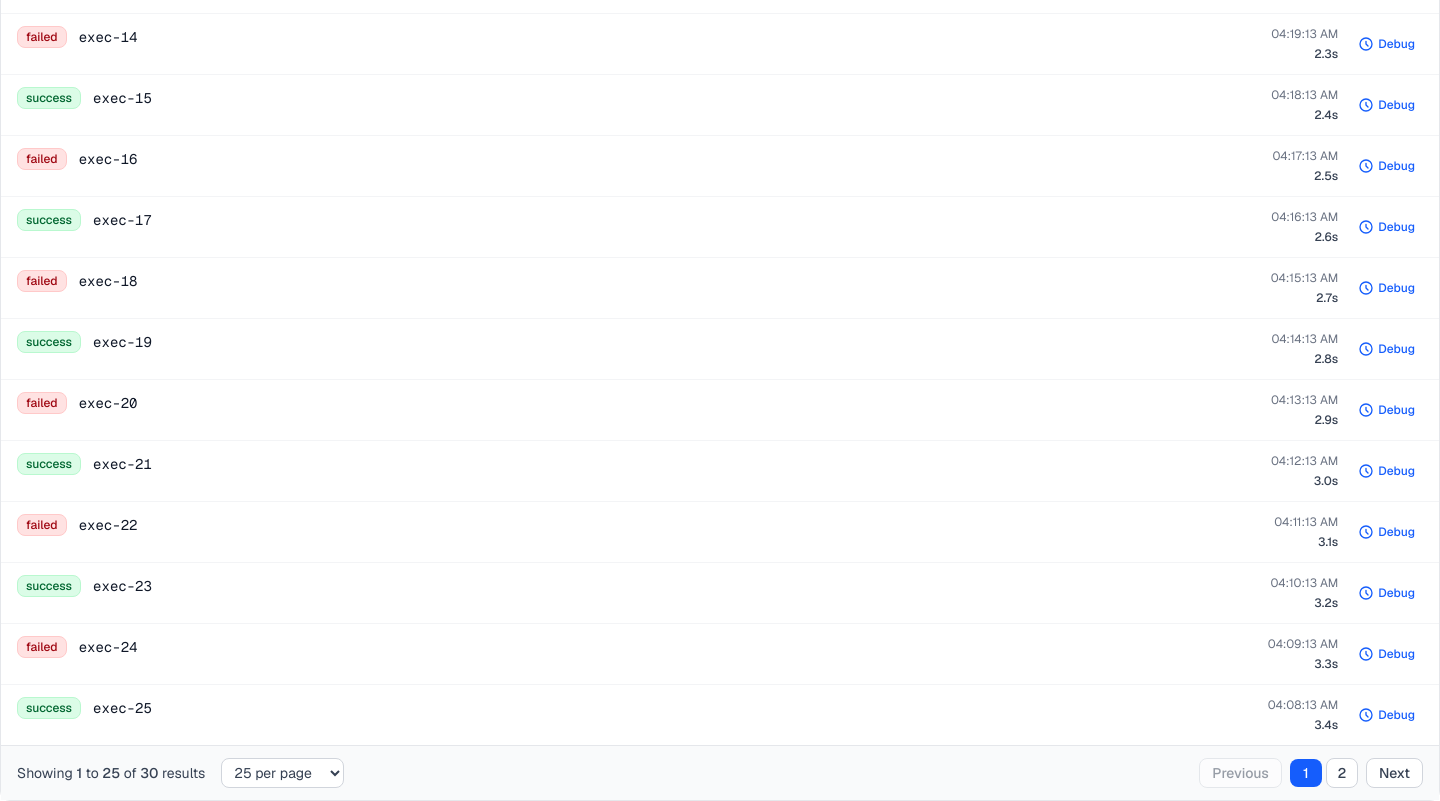
Test: ExecutionHistoryPanel › Pagination › can navigate to next page
(page scrolled)
Select "10 per page" in the dropdown: (283, 773) x1=221 y1=758 x2=344 y2=788
(page scrolled)
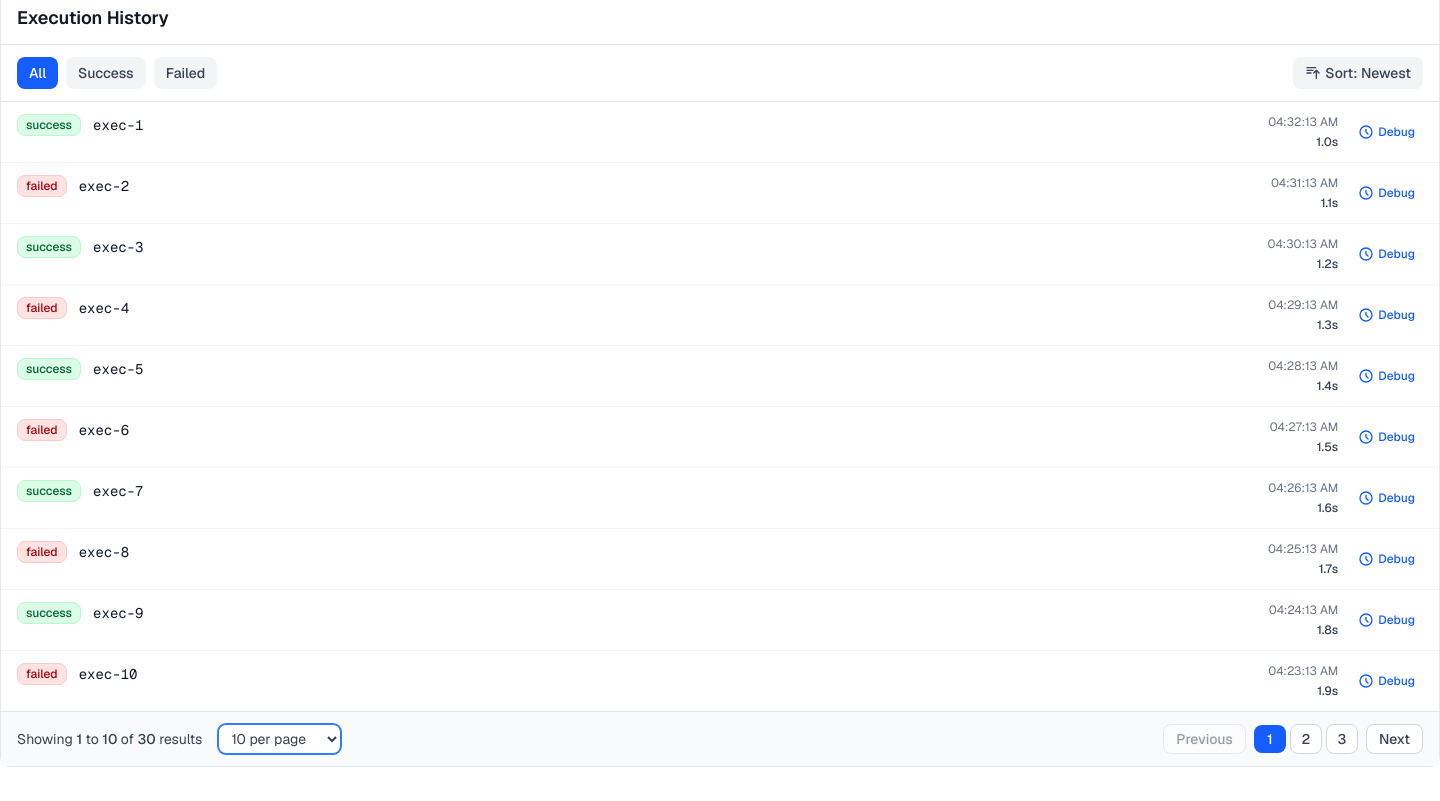
Click the button "Next": (1394, 739) x1=1366 y1=724 x2=1423 y2=754
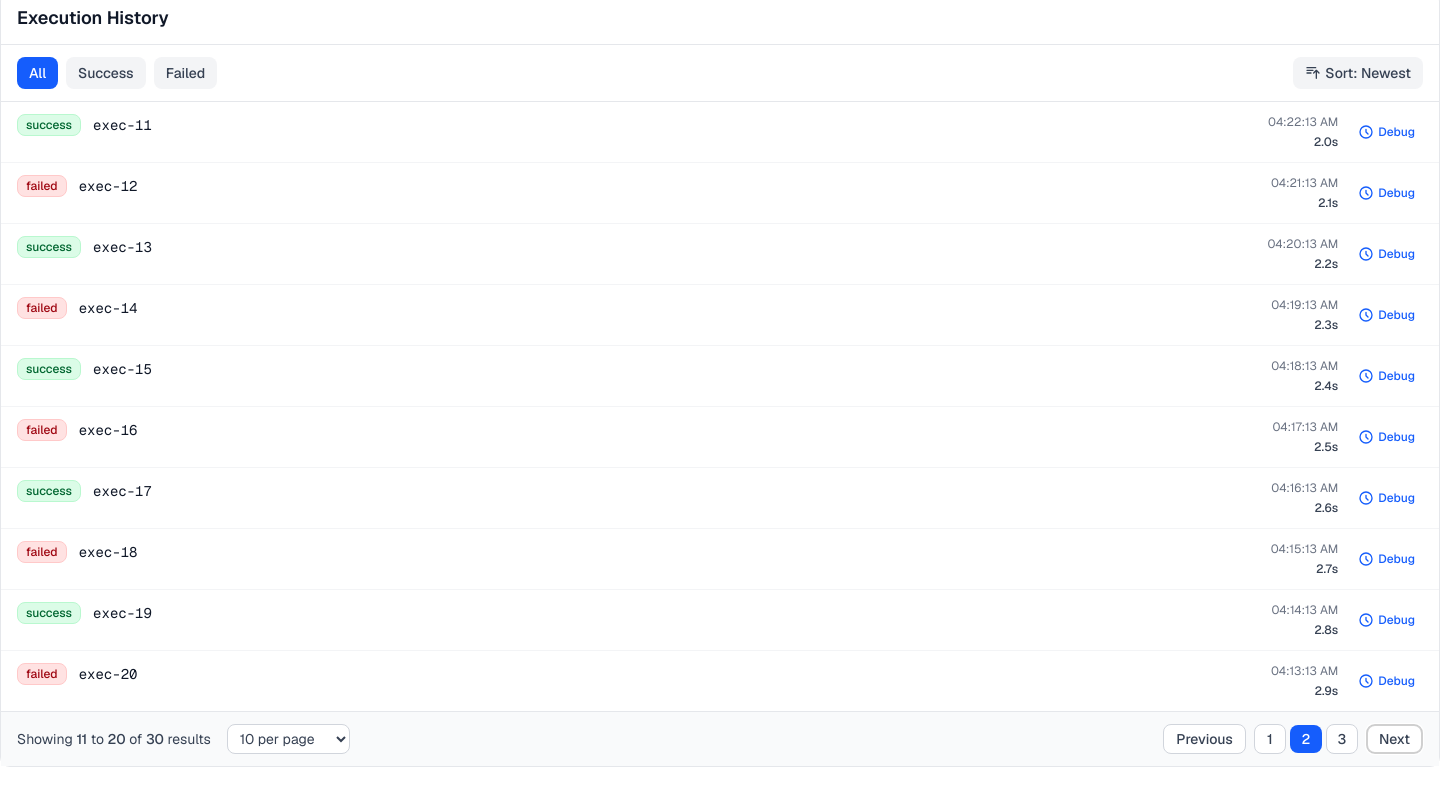
Check: the text "exec-11" is shown, box x1=93 y1=115 x2=152 y2=135
